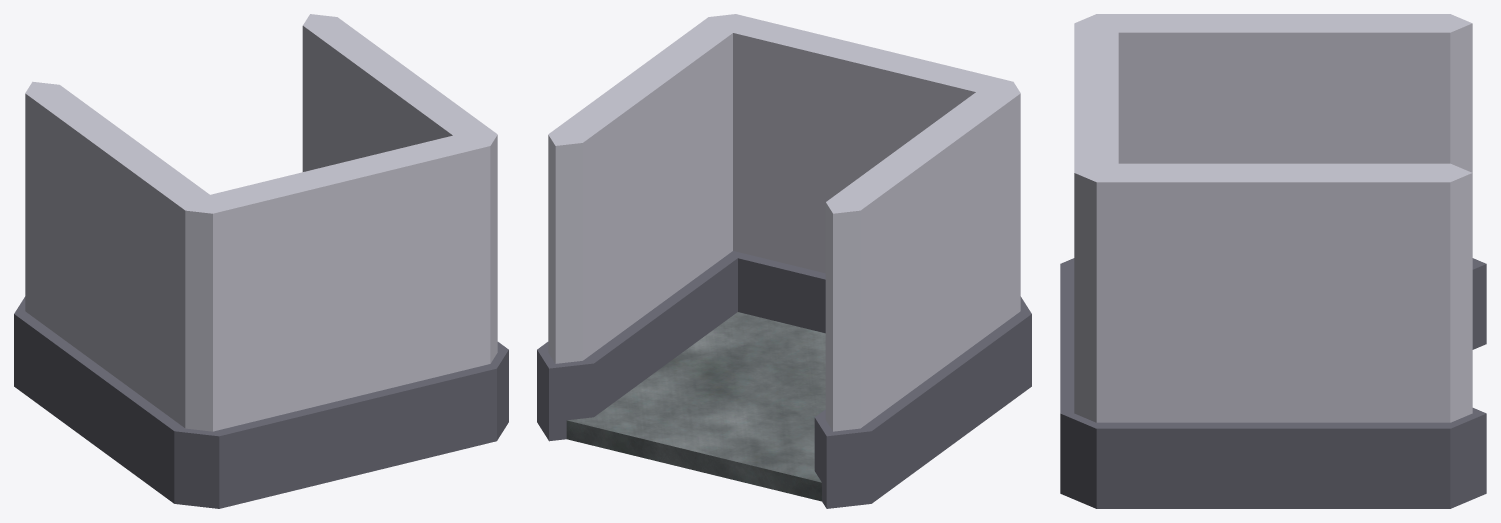
Rendered from sm_hallway_end_02.fbx.
3 views of the same model, side by side, from view 1: azimuth 30°, elevation 25°; view 2: azimuth 150°, elevation 25°; view 3: azimuth 270°, elevation 25° (orthographic). The views are drawn at different scales.
Visible parts, largest first — view 1: wall_01_180, wall_01_172, wall_01_176; view 2: wall_01_172, wall_01_176, wall_01_180, floor_square_169; view 3: wall_01_176, wall_01_172, wall_01_180.
Boxes of the visible parts, box(x1,y1,x2,y2) form: wall_01_180: box(174, 131, 508, 508); wall_01_172: box(14, 81, 223, 508); wall_01_176: box(302, 14, 508, 355); wall_01_172: box(814, 81, 1031, 508); wall_01_176: box(537, 14, 743, 441); wall_01_180: box(709, 14, 1031, 333); floor_square_169: box(566, 312, 825, 501); wall_01_176: box(1060, 163, 1486, 508); wall_01_172: box(1061, 14, 1486, 349); wall_01_180: box(1060, 14, 1118, 508).
Size of the model in its own units: 12.05 by 10 by 12.05.
